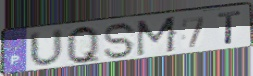7: (180, 15, 207, 49)
M: (135, 15, 179, 59)
Q: (65, 24, 103, 66)
S: (102, 22, 138, 61)
T: (216, 9, 244, 46)
U: (28, 27, 66, 69)
